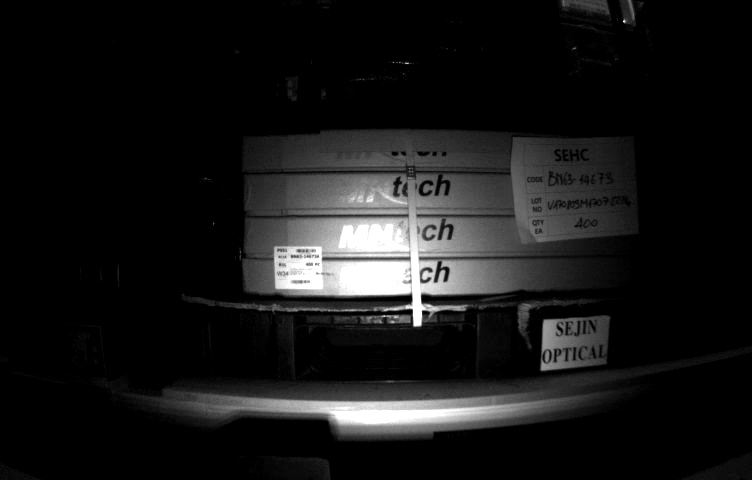True Barcode: (272, 242, 324, 291)
